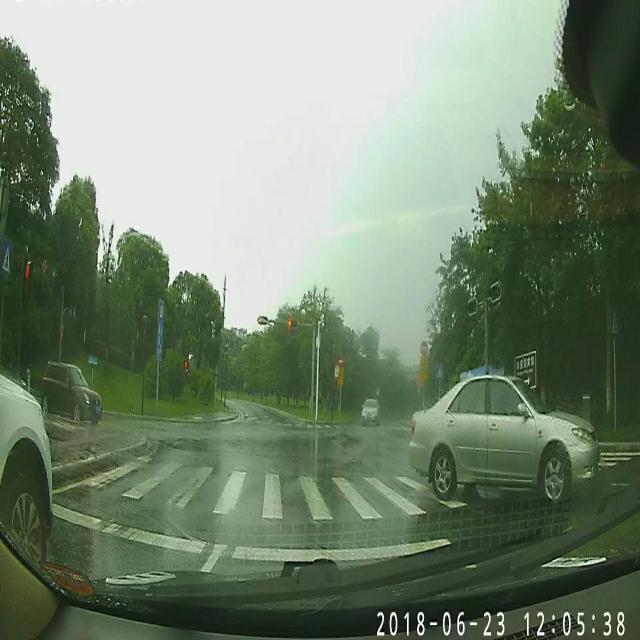car: (410, 368, 598, 502), (1, 378, 54, 562), (44, 363, 98, 430), (361, 394, 379, 426)
